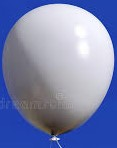Balloon: (2, 5, 114, 136)
